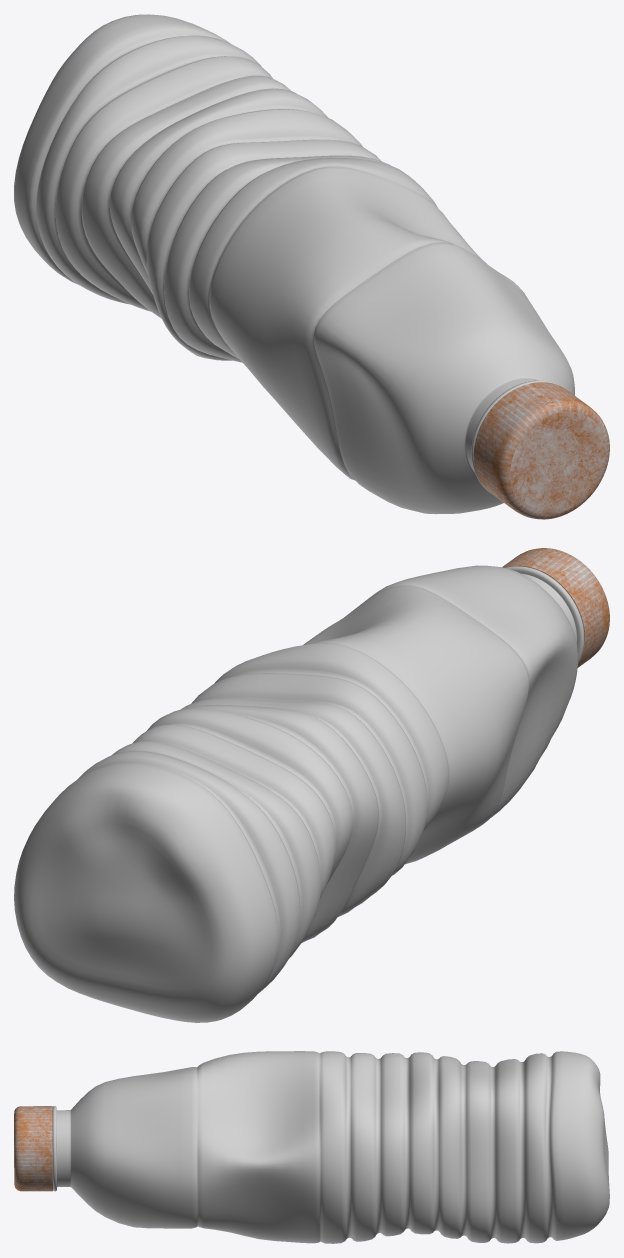
3 renders of one model, top to bottom at view 1: azimuth 30°, elevation 25°; view 2: azimuth 150°, elevation 25°; view 3: azimuth 270°, elevation 25°, orthographic. The views are drawn at different scales.
Parts seen in each view (by area): view 1: Beat_Water_Bottle, Bottle_Cap; view 2: Beat_Water_Bottle, Bottle_Cap; view 3: Beat_Water_Bottle, Bottle_Cap.
Part boxes in pixels (box(x1,y1,x2,y2)): Beat_Water_Bottle: box(14, 14, 574, 514); Bottle_Cap: box(473, 382, 609, 519); Beat_Water_Bottle: box(14, 565, 584, 1022); Bottle_Cap: box(502, 548, 609, 667); Beat_Water_Bottle: box(52, 1051, 609, 1243); Bottle_Cap: box(14, 1106, 52, 1191).
Size of the model in its own units: 6.74 by 6.73 by 20.85.
